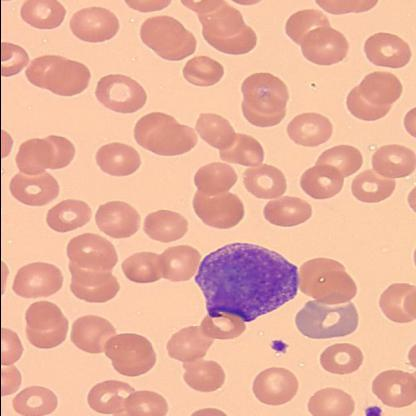Promyelocyte: (195, 243, 301, 323)
